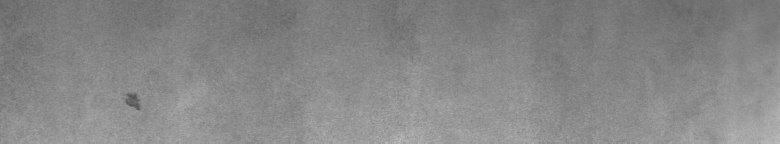fi: (124, 88, 141, 112)
